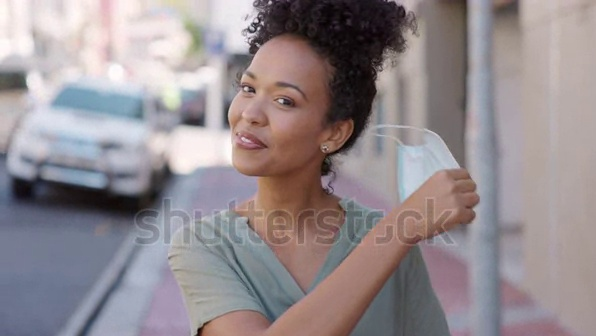No Mask: (211, 114, 320, 181)
